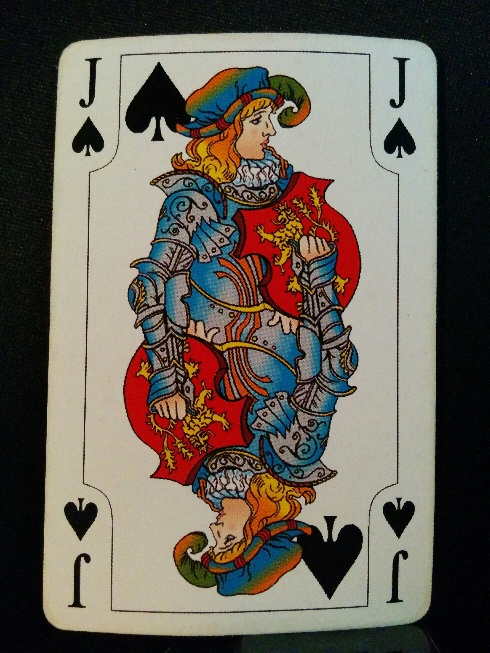Sj: (377, 495, 424, 612), (378, 49, 422, 165), (59, 494, 101, 613), (69, 50, 109, 162)
